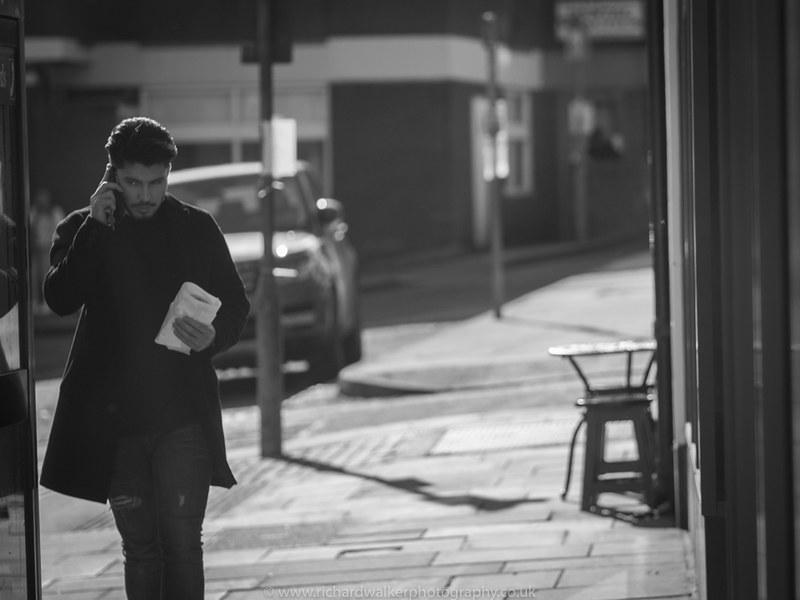phone: (92, 162, 122, 229)
talk: (88, 156, 170, 236)
